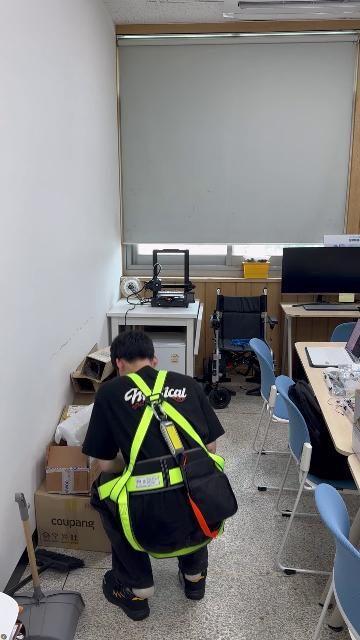helmet_not_worn: (106, 329, 159, 372)
shoe_worn: (102, 571, 150, 622), (178, 564, 207, 600)
vest_worn: (97, 371, 230, 554)
